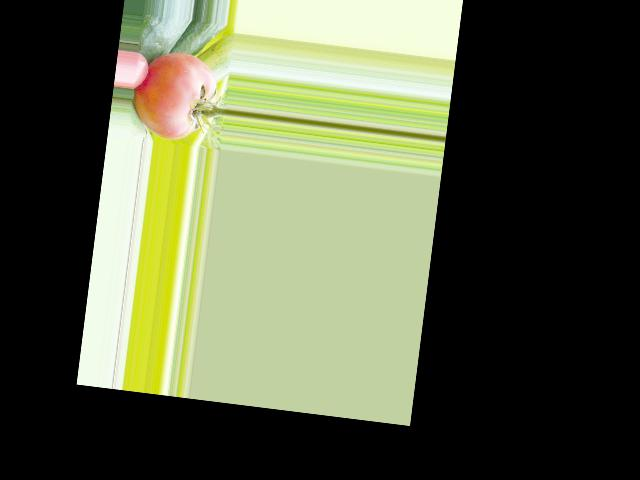tomato: (128, 48, 219, 144)
